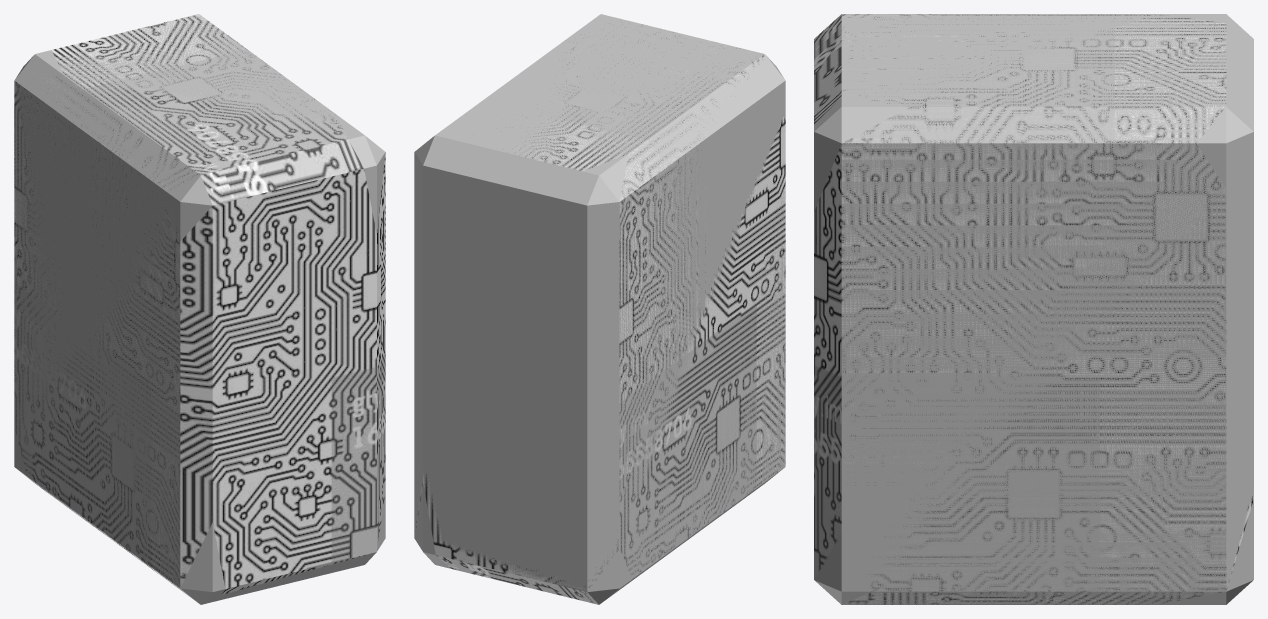
The model's file is robot_body.obj.
The picture shows the model from 3 angles, left to right: view 1: azimuth 30°, elevation 25°; view 2: azimuth 150°, elevation 25°; view 3: azimuth 270°, elevation 25°; orthographic projection. The views are drawn at different scales.
Parts seen in each view (by area): view 1: Cube.002, Cube.001; view 2: Cube.001, Cube.002; view 3: Cube.001, Cube.002.
Part boxes in pixels (x1=…): Cube.002: x1=14, y1=14, x2=385, y2=594; Cube.001: x1=14, y1=14, x2=385, y2=604; Cube.001: x1=414, y1=14, x2=785, y2=604; Cube.002: x1=415, y1=22, x2=785, y2=604; Cube.001: x1=814, y1=14, x2=1253, y2=604; Cube.002: x1=814, y1=14, x2=1253, y2=604.
Size of the model in its own units: 1 by 2 by 1.6.
